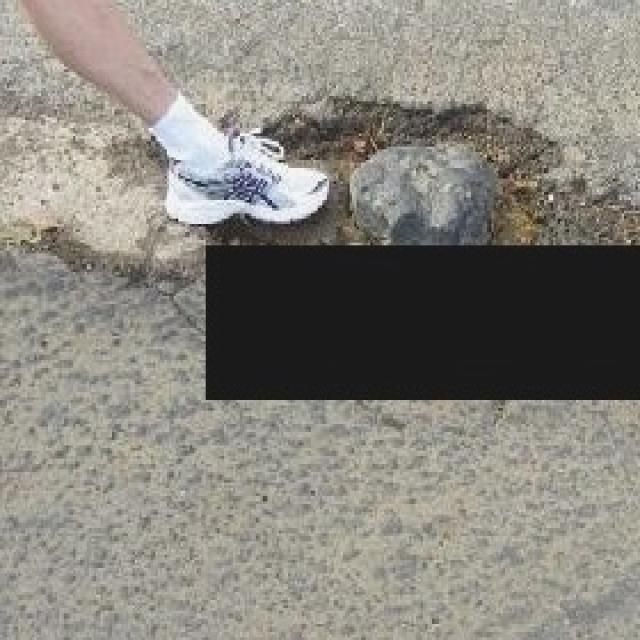road-pothole: (199, 82, 638, 253)
